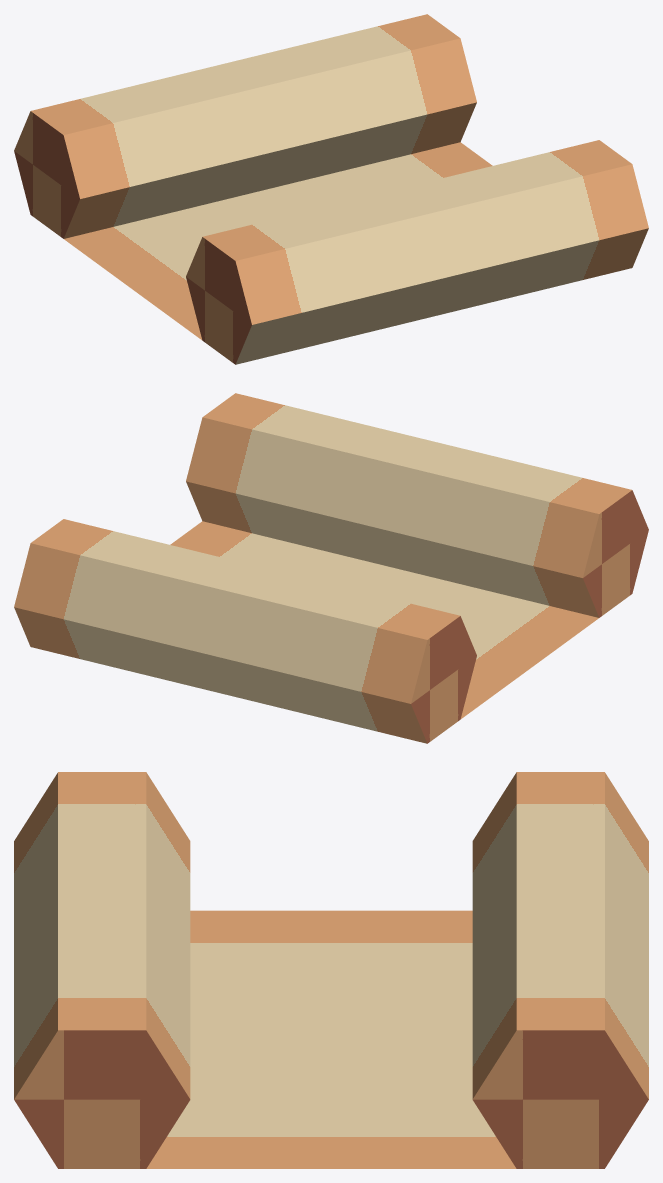
File: Paper.gltf
3 views of the same model, one above another, from view 1: azimuth 30°, elevation 25°; view 2: azimuth 150°, elevation 25°; view 3: azimuth 270°, elevation 25° (orthographic). The views are drawn at different scales.
Visible parts, largest first — view 1: plane; view 2: plane; view 3: plane.
Boxes of the visible parts, x1,y1,x2,y2 form: plane: (14, 14, 648, 364); plane: (14, 393, 648, 743); plane: (14, 772, 648, 1168).
Size of the model in its own units: 0.5 by 0.125 by 0.5193.
Materials: 1 (1 with a texture image).
